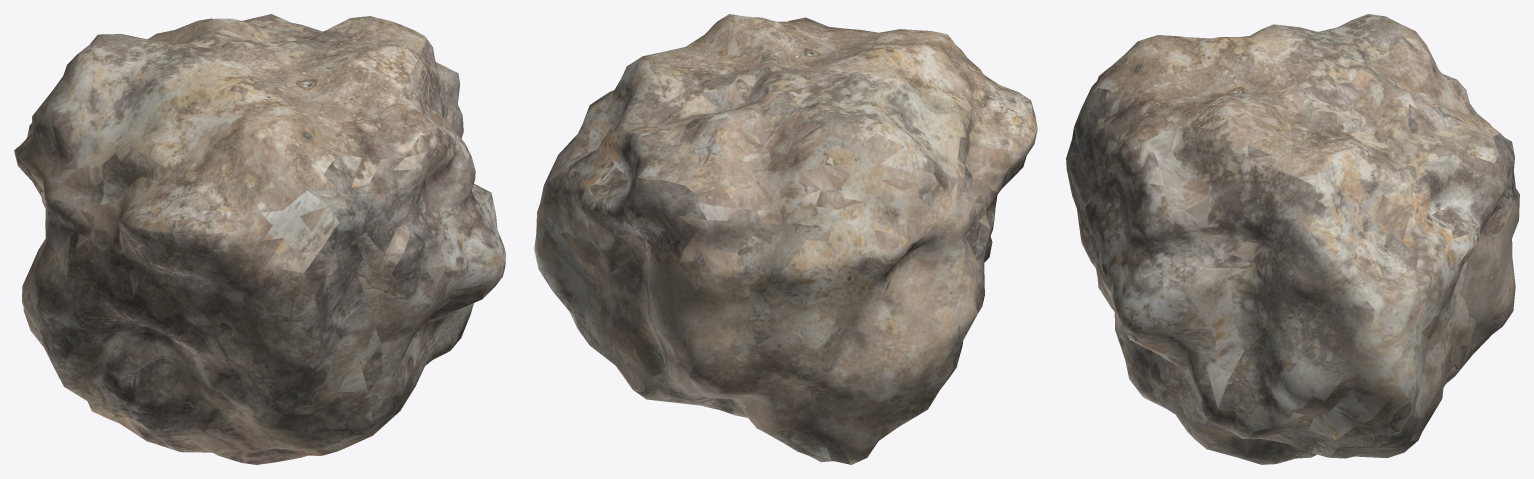
Rendered from rock_1.obj.
3 views of the same model, side by side, from view 1: azimuth 30°, elevation 25°; view 2: azimuth 150°, elevation 25°; view 3: azimuth 270°, elevation 25° (orthographic). The views are drawn at different scales.
Visible parts, largest first — view 1: rock_1; view 2: rock_1; view 3: rock_1.
Boxes of the visible parts, left/top/right/bottom form: rock_1: left=14, top=14, right=505, bottom=464; rock_1: left=534, top=14, right=1037, bottom=464; rock_1: left=1066, top=14, right=1519, bottom=464.
Size of the model in its own units: 2.7 by 2.39 by 2.53.
Materials: 1 (1 with a texture image).
